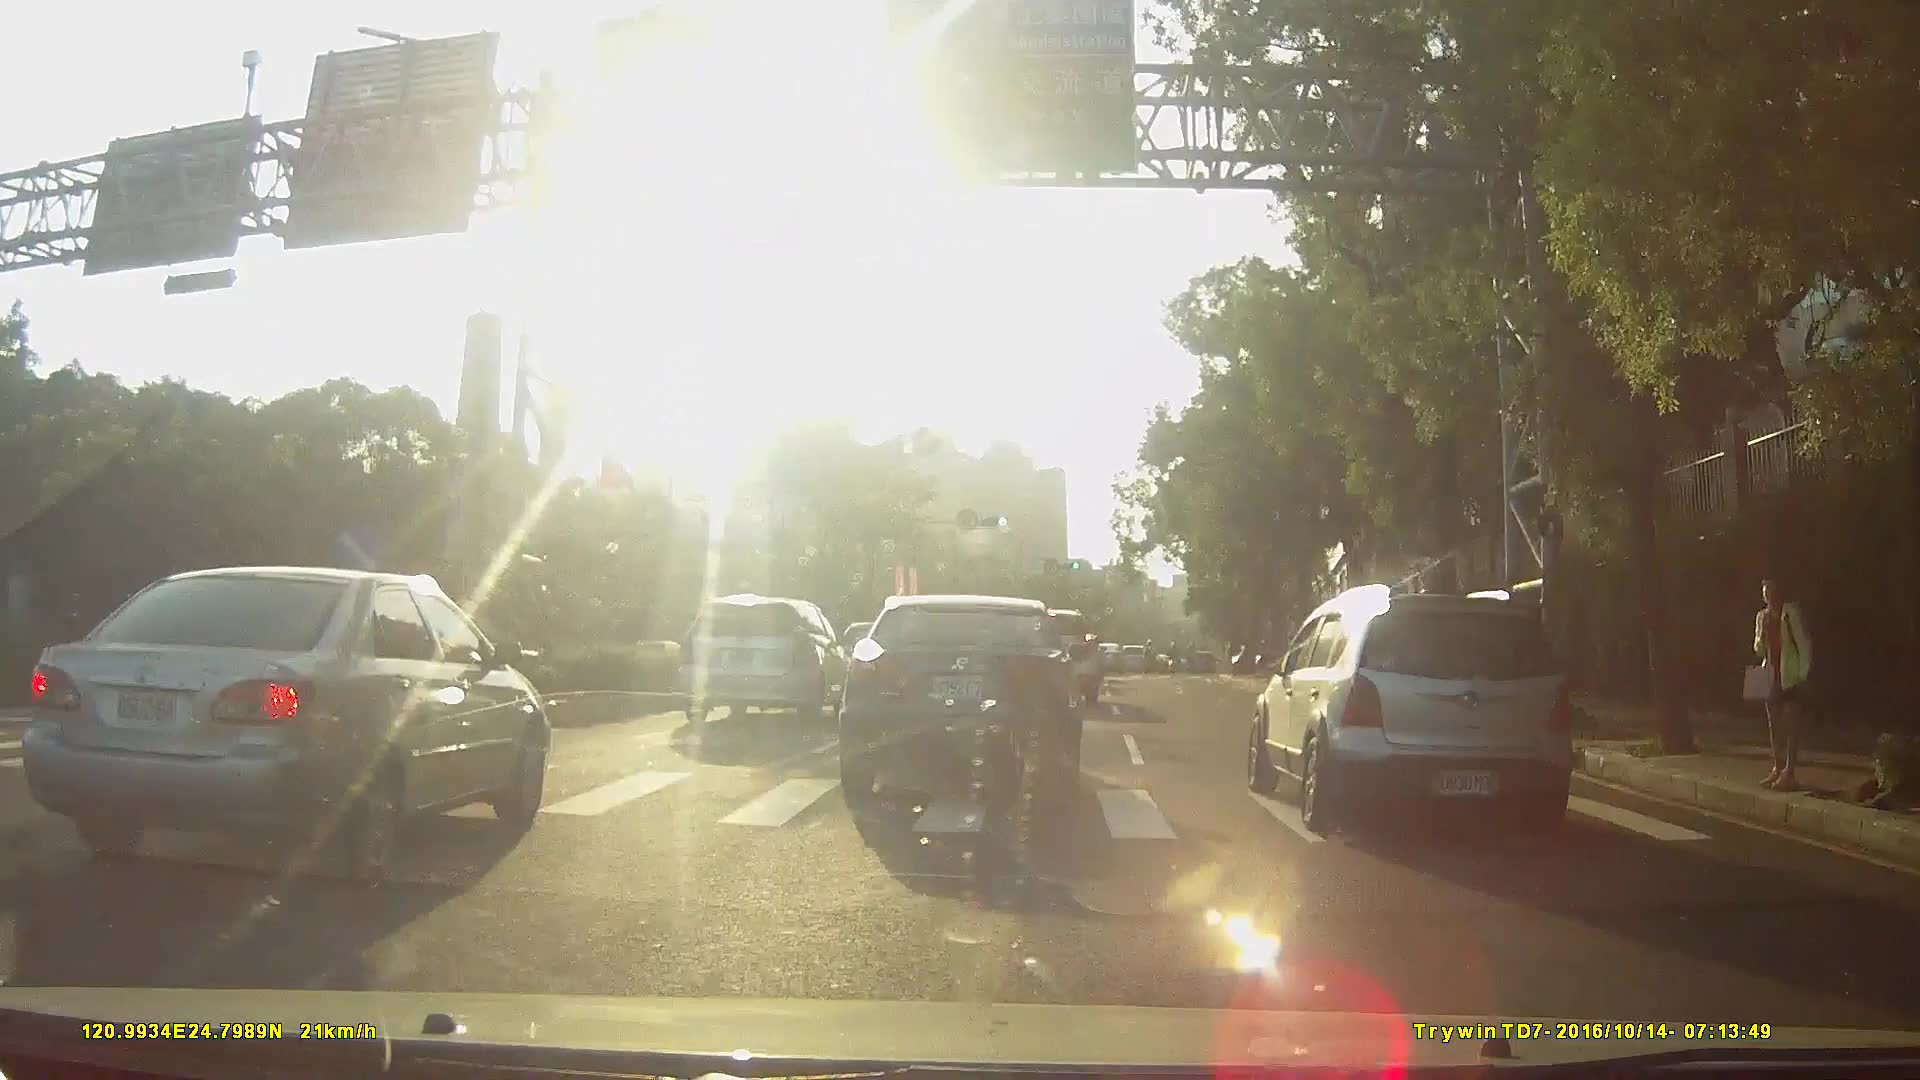pedestrian: (1745, 570, 1822, 794)
vehicle: (2, 560, 557, 887), (1228, 570, 1602, 843), (844, 592, 1101, 804), (666, 589, 849, 720), (1086, 636, 1121, 669), (1111, 638, 1145, 668)
